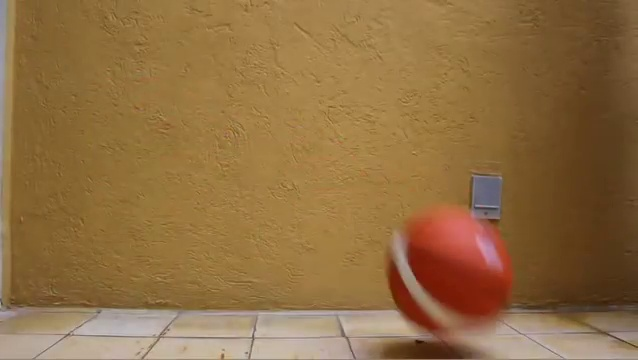ball: (387, 204, 516, 332)
